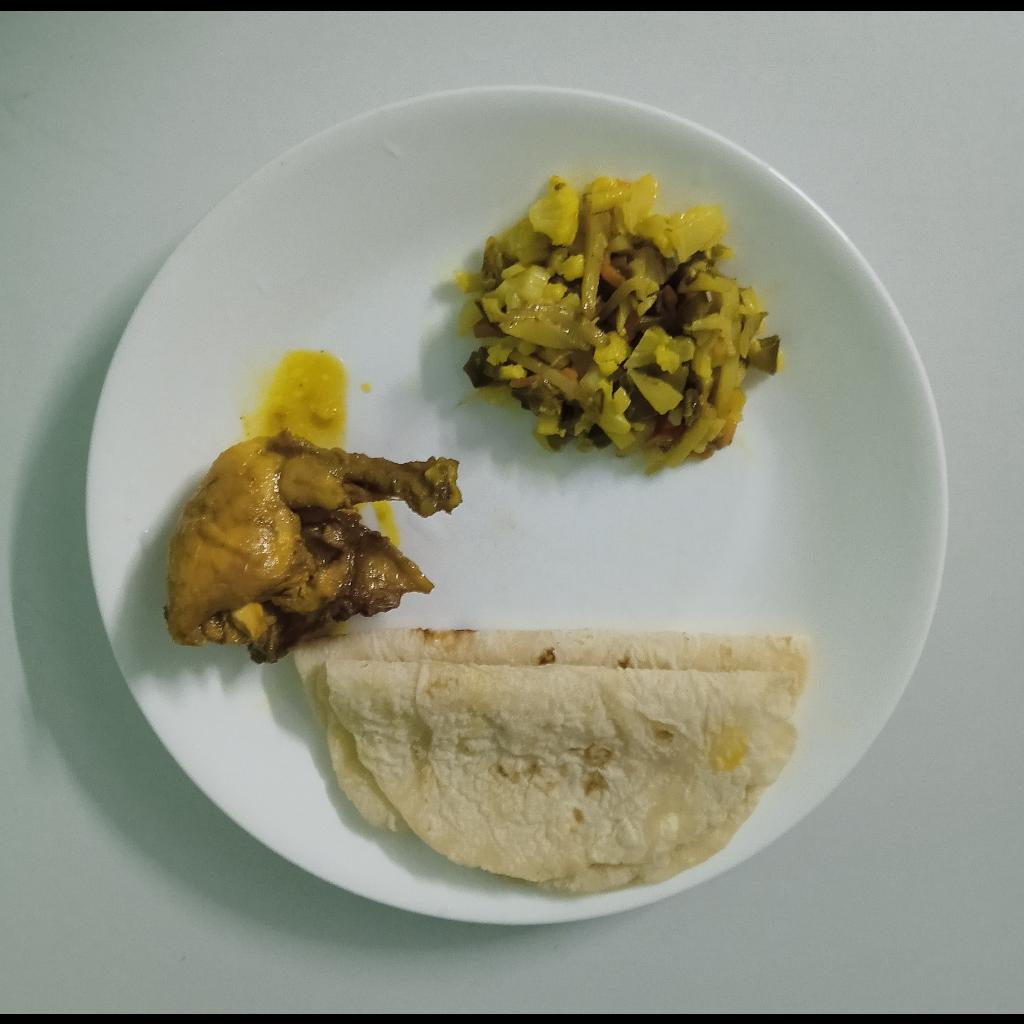chicken: (162, 430, 463, 664)
ruti: (293, 628, 812, 892)
vegetable: (454, 169, 780, 477)
